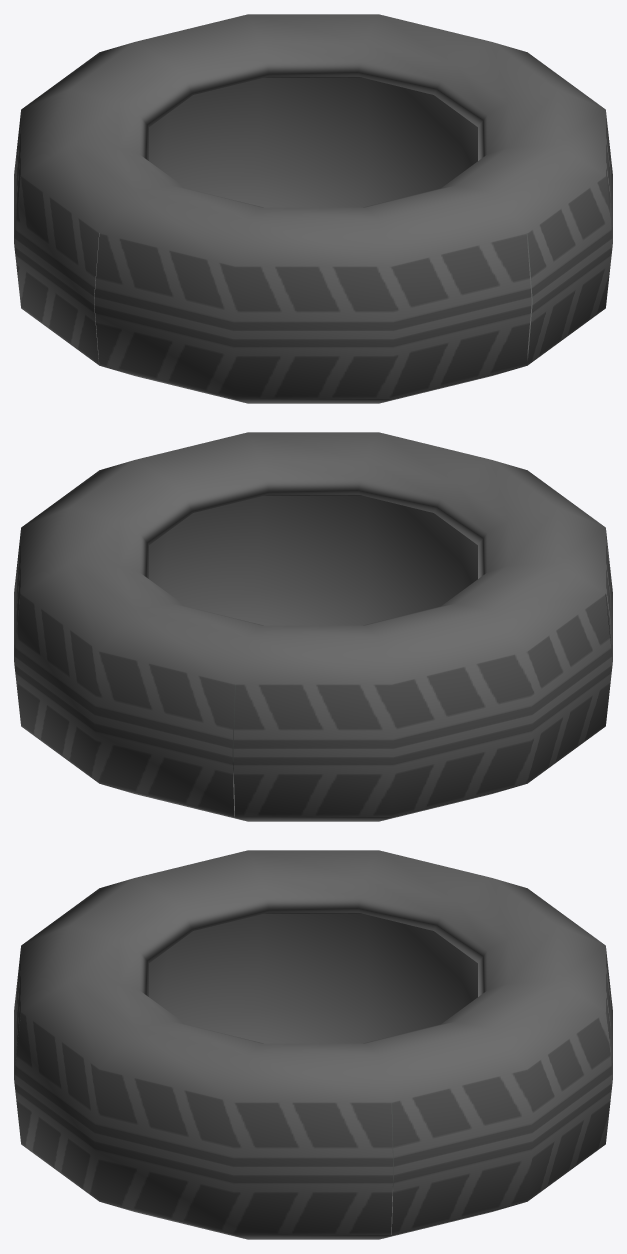
The model's file is obj_tire.fbx.
3 renders of one model, top to bottom at view 1: azimuth 30°, elevation 25°; view 2: azimuth 150°, elevation 25°; view 3: azimuth 270°, elevation 25°, orthographic.
Parts seen in each view (by area): view 1: obj_tire; view 2: obj_tire; view 3: obj_tire.
Part boxes in pixels (x1,y1,x2,y2): obj_tire: (14,14,612,403); obj_tire: (14,432,612,821); obj_tire: (14,850,612,1239).
Size of the model in its own units: 2.88 by 0.9751 by 2.88.
1 material, 1 textured.
